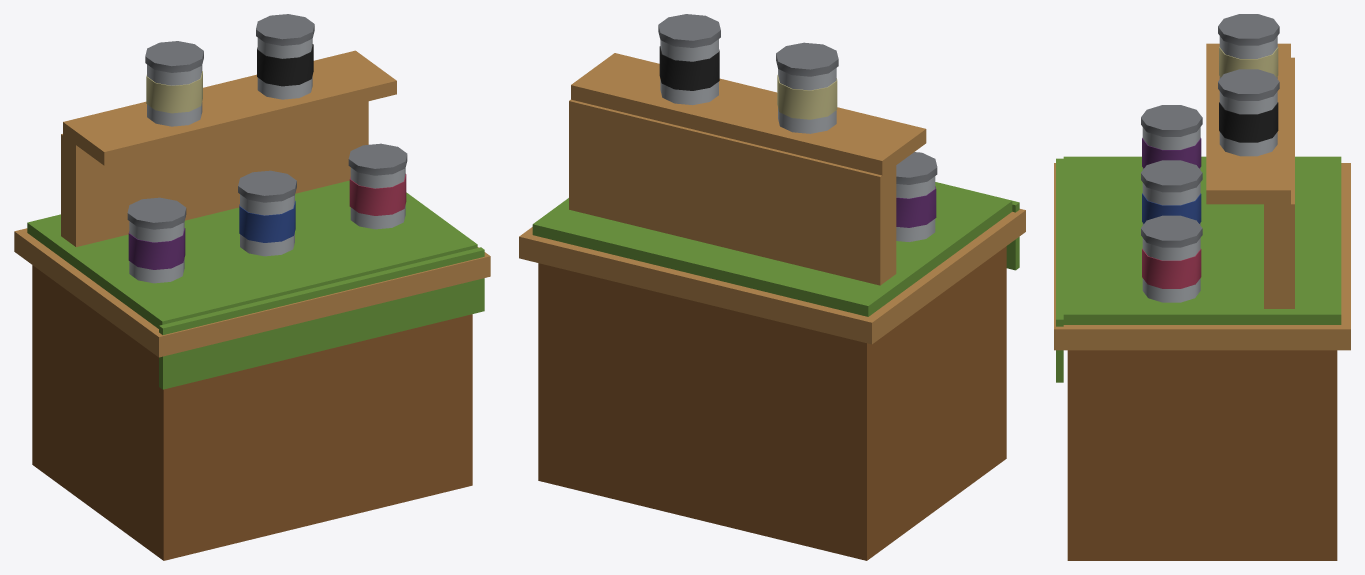
Rendered from heirloom_seeds_display.glb.
3 renders of one model, left to right at view 1: azimuth 30°, elevation 25°; view 2: azimuth 150°, elevation 25°; view 3: azimuth 270°, elevation 25°, orthographic. The views are drawn at different scales.
Visible parts, largest first — view 1: decor-heirloom_seeds_display; view 2: decor-heirloom_seeds_display; view 3: decor-heirloom_seeds_display.
Part boxes in pixels (<box>): decor-heirloom_seeds_display: <box>14,14,490,560</box>; decor-heirloom_seeds_display: <box>519,14,1025,560</box>; decor-heirloom_seeds_display: <box>1054,14,1350,560</box>.
Size of the model in its own units: 1.02 by 1.23 by 0.77.
